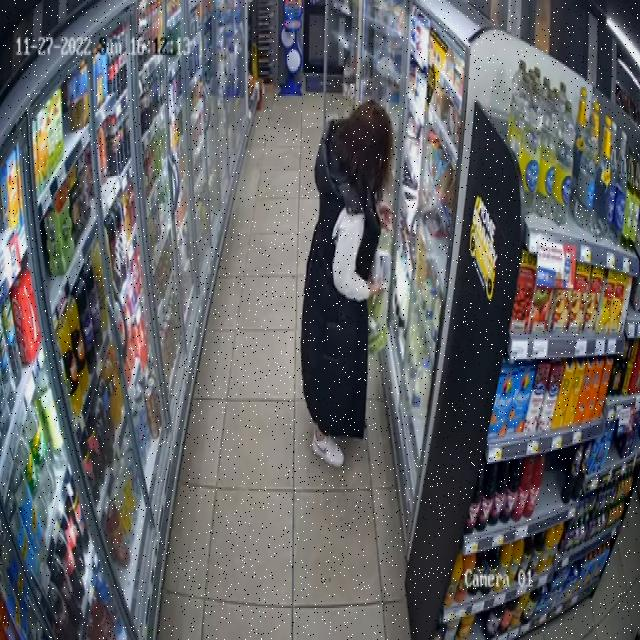article: (371, 247, 390, 288)
bags: (367, 231, 390, 352)
hands: (378, 203, 392, 229)
person: (300, 100, 392, 468)
